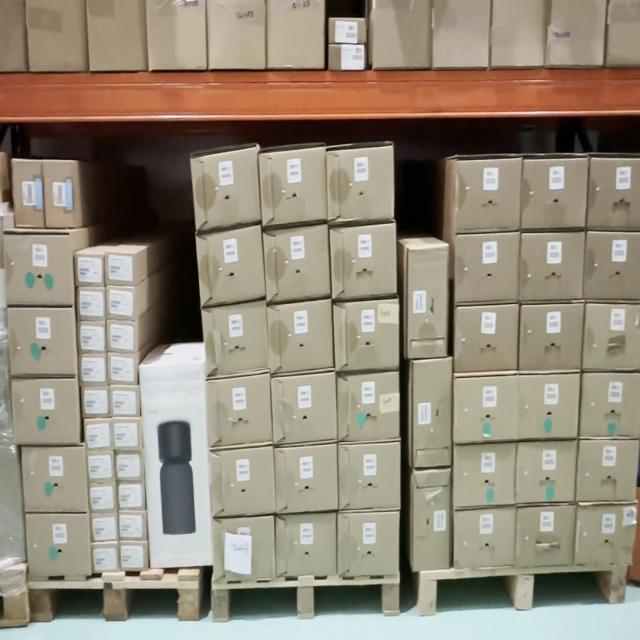box: (140, 364, 213, 568), (192, 145, 261, 231), (258, 143, 328, 225), (196, 224, 266, 306), (326, 143, 394, 222), (263, 223, 331, 301), (202, 299, 270, 376), (4, 233, 73, 306), (267, 300, 334, 374), (206, 373, 273, 447), (271, 373, 337, 444), (459, 157, 520, 231), (520, 232, 584, 301), (334, 226, 394, 298), (408, 247, 447, 357), (456, 235, 520, 302), (338, 302, 399, 372), (455, 375, 517, 442), (524, 158, 584, 227), (275, 510, 336, 577), (12, 382, 79, 443), (11, 311, 74, 375), (519, 372, 579, 439), (339, 372, 398, 440), (26, 444, 85, 511), (413, 362, 450, 466), (340, 444, 400, 508), (214, 518, 274, 580), (456, 309, 517, 369), (338, 514, 398, 575), (28, 517, 91, 575), (454, 510, 515, 569), (213, 451, 271, 513), (583, 373, 640, 436), (522, 306, 580, 367), (276, 449, 337, 507), (454, 447, 514, 504), (588, 231, 638, 299), (587, 304, 639, 369), (414, 472, 449, 568), (518, 507, 574, 567), (592, 158, 640, 228), (518, 444, 574, 502), (579, 505, 631, 565), (580, 442, 635, 498), (13, 160, 44, 226), (44, 161, 74, 227), (112, 417, 141, 452), (114, 450, 144, 482), (79, 353, 107, 387), (110, 386, 140, 417), (85, 419, 113, 452), (108, 353, 137, 384), (91, 543, 119, 574), (78, 288, 105, 320), (90, 512, 118, 542), (83, 387, 110, 418), (78, 322, 105, 353), (107, 321, 134, 352), (117, 481, 145, 510), (119, 512, 146, 542), (89, 482, 116, 512), (107, 254, 134, 284), (108, 286, 134, 317), (120, 543, 147, 571), (88, 453, 114, 481), (77, 257, 103, 285)
